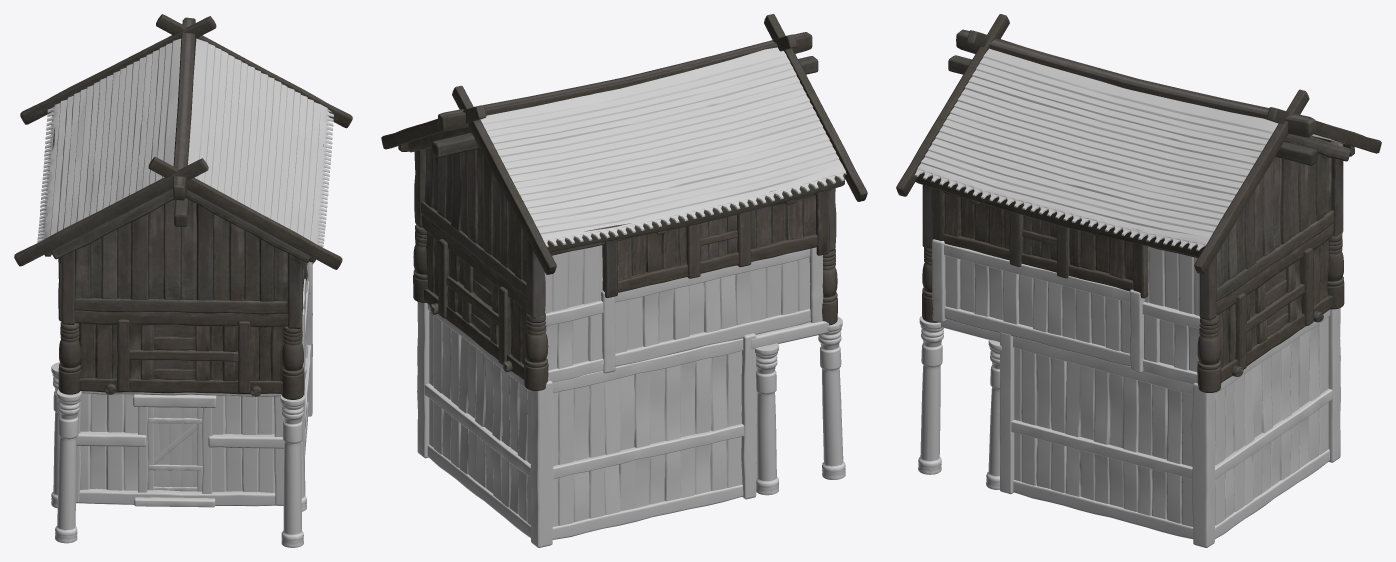
File: pf_build_barracks_single_01.gltf
3 views of the same model, side by side, from view 1: azimuth 30°, elevation 25°; view 2: azimuth 150°, elevation 25°; view 3: azimuth 270°, elevation 25° (orthographic). The views are drawn at different scales.
Visible parts, largest first — view 1: pf_build_barracks_single_01; view 2: pf_build_barracks_single_01; view 3: pf_build_barracks_single_01.
Boxes of the visible parts, left/top/right/bottom form: pf_build_barracks_single_01: left=14, top=14, right=352, bottom=547; pf_build_barracks_single_01: left=381, top=14, right=867, bottom=547; pf_build_barracks_single_01: left=896, top=14, right=1381, bottom=547.
Bounding box in the file's own units: 11.13 × 10.34 × 11.23.
